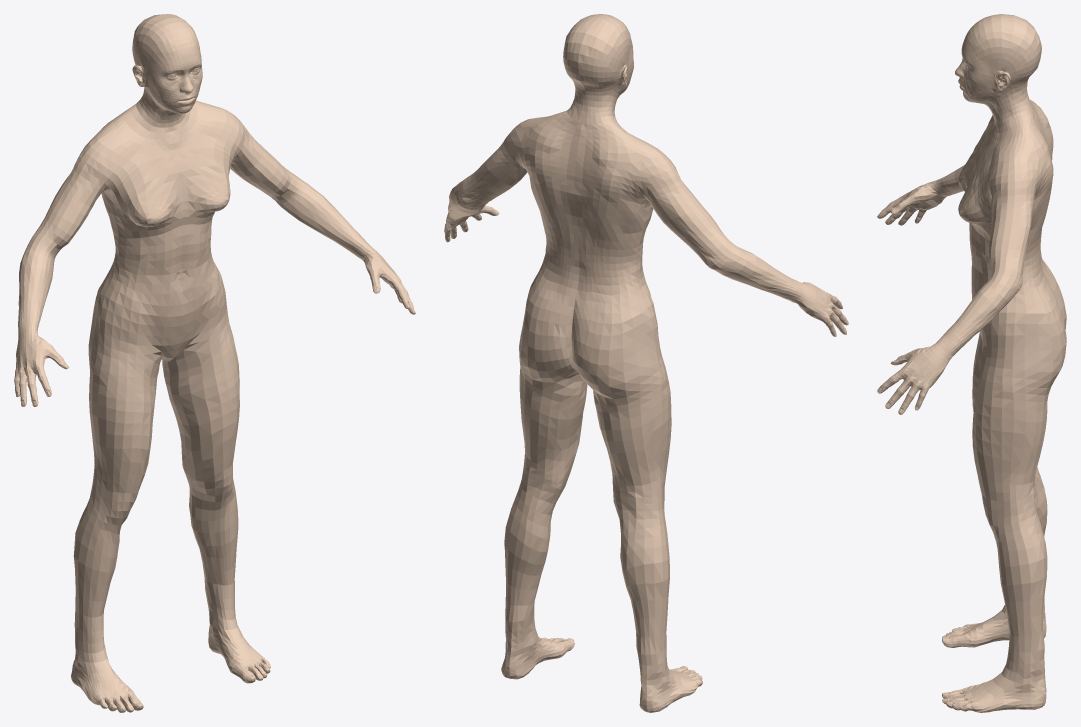
The model's file is female-mature-average-high.glb.
The picture shows the model from 3 angles, left to right: view 1: azimuth 30°, elevation 25°; view 2: azimuth 150°, elevation 25°; view 3: azimuth 270°, elevation 25°; orthographic projection.
Parts seen in each view (by area): view 1: world; view 2: world; view 3: world.
Part boxes in pixels (bbox=[...]): world: bbox=[14, 14, 415, 712]; world: bbox=[444, 14, 848, 712]; world: bbox=[877, 14, 1066, 712].
Bounding box in the file's own units: 1.12 × 1.81 × 0.4725.
